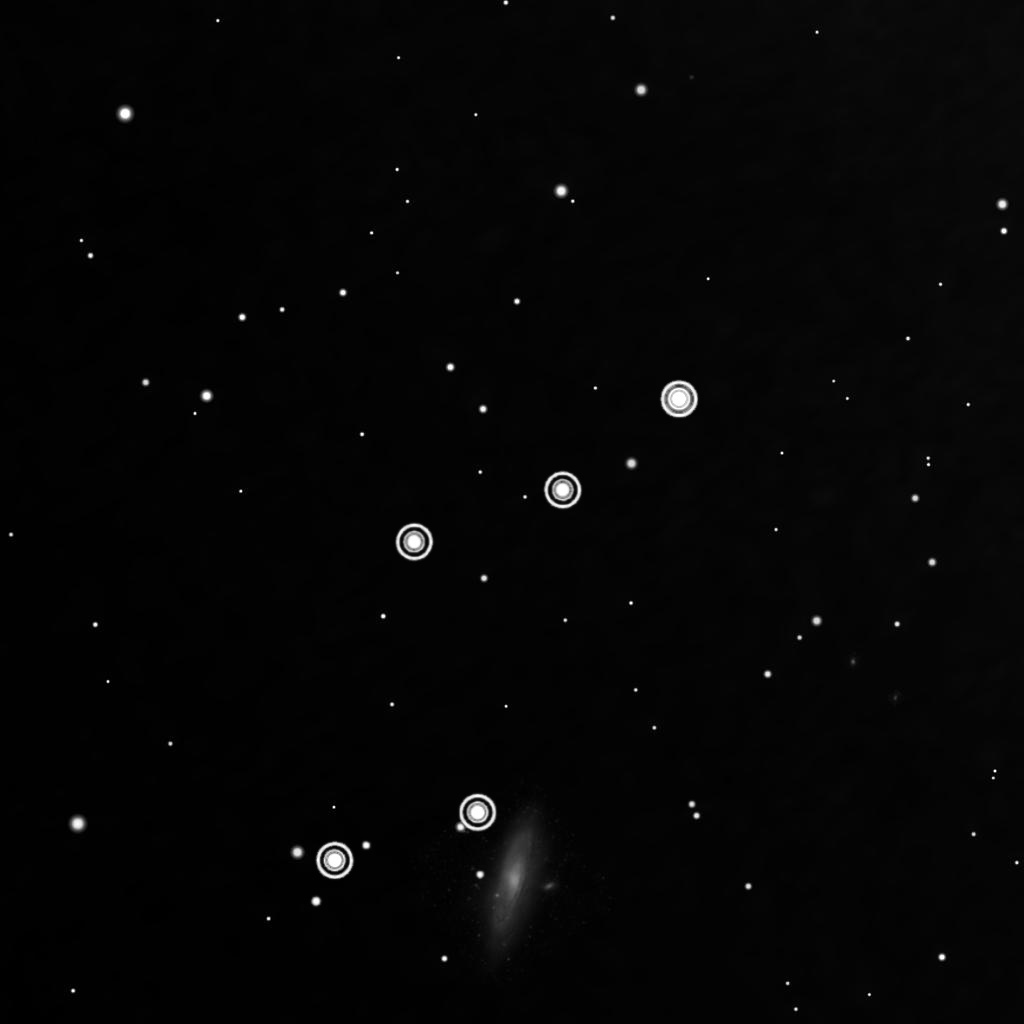lyra: (307, 370, 703, 889)
